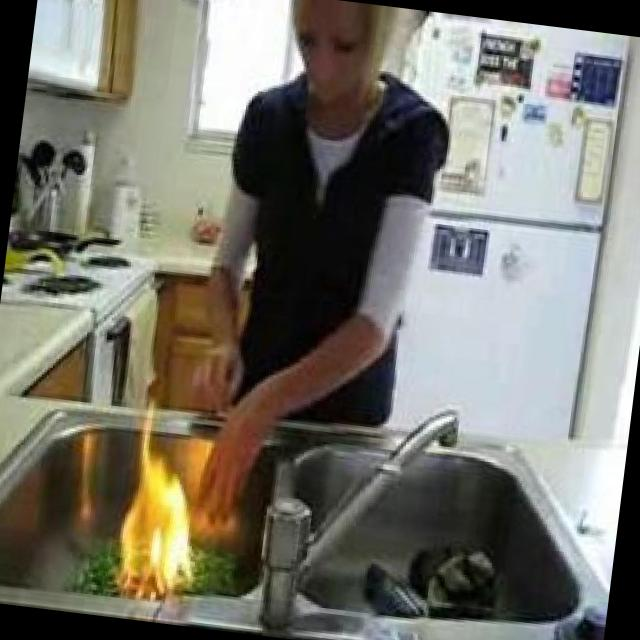Fire: (110, 397, 212, 597)
